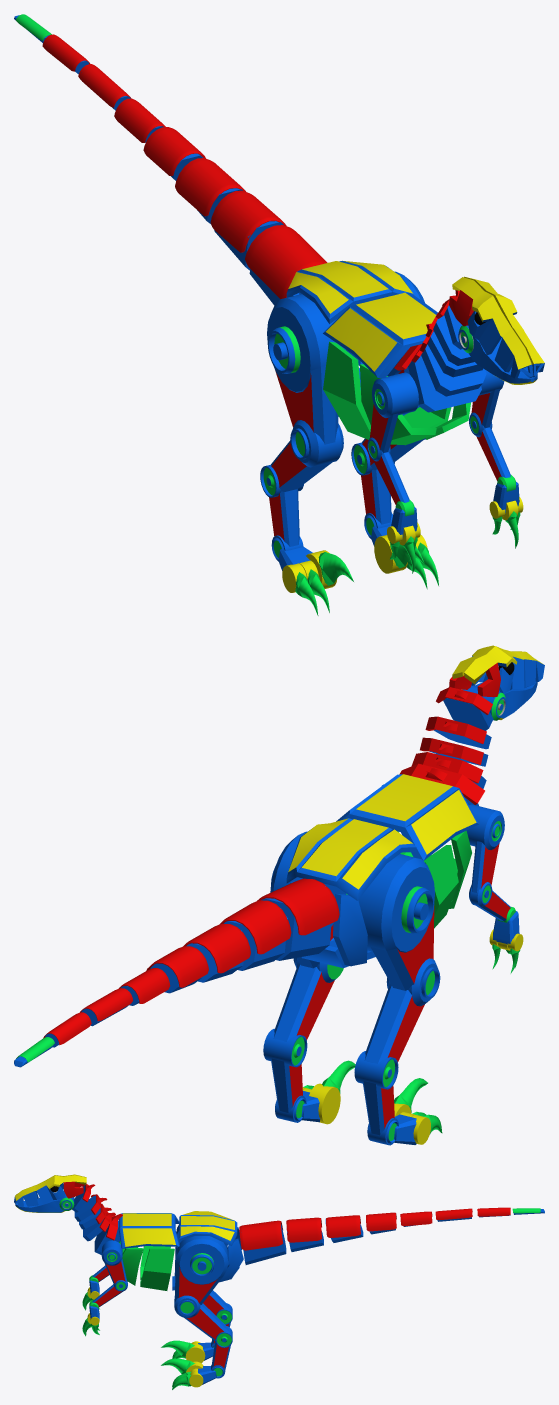
The model's file is raptor_v02.fbx.
3 views of the same model, one above another, from view 1: azimuth 30°, elevation 25°; view 2: azimuth 150°, elevation 25°; view 3: azimuth 270°, elevation 25° (orthographic). The views are drawn at different scales.
Visible parts, largest first — view 1: pCube10, polySurface3, pCylinder9, back, pCube19 (×4), pCylinder1, polySurface5, pCube14 (×2), pCylinder2, pCube12, pCylinder3, polySurface9 (×2) (+11 smaller); view 2: pCylinder9 (×2), back, pCube10, pCube13 (×2), pCube20 (×5), polySurface3, pCube14 (×2), pCylinder1, pCylinder11 (×2), pCylinder2, polySurface11, pCube12 (+17 smaller); view 3: pCylinder9, pCube10, back, polySurface3, polySurface4, pCylinder1, pCube13 (×2), pCylinder2, pCube12, pCylinder3, pCube2, pCone2 (×2) (+15 smaller).
Boxes of the visible parts, bbox=[...] form: pCube10: bbox=[323, 292, 437, 377]; polySurface3: bbox=[449, 276, 544, 378]; pCylinder9: bbox=[267, 294, 345, 392]; back: bbox=[286, 260, 414, 324]; pCube19 (×4): bbox=[408, 315, 486, 412]; pCylinder1: bbox=[245, 225, 327, 299]; polySurface5: bbox=[323, 341, 370, 439]; pCube14 (×2): bbox=[269, 469, 391, 546]; pCylinder2: bbox=[210, 190, 286, 252]; pCube12: bbox=[275, 366, 338, 444]; pCylinder3: bbox=[175, 158, 245, 216]; polySurface9 (×2): bbox=[373, 427, 510, 504]; pCylinder9 (×2): bbox=[270, 831, 434, 952]; back: bbox=[286, 818, 416, 900]; pCube10: bbox=[336, 774, 478, 860]; pCube13 (×2): bbox=[273, 964, 424, 1063]; pCube20 (×5): bbox=[399, 687, 492, 804]; polySurface3: bbox=[449, 645, 544, 697]; pCube14 (×2): bbox=[271, 1058, 394, 1135]; pCylinder1: bbox=[257, 878, 339, 935]; pCylinder11 (×2): bbox=[263, 1028, 398, 1089]; pCylinder2: bbox=[219, 900, 291, 954]; polySurface11: bbox=[333, 894, 367, 966]; pCube12: bbox=[370, 906, 434, 990]; pCylinder9: bbox=[175, 1236, 228, 1284]; pCube10: bbox=[118, 1213, 179, 1248]; back: bbox=[179, 1211, 237, 1245]; polySurface3: bbox=[14, 1174, 86, 1207]; polySurface4: bbox=[140, 1248, 174, 1290]; pCylinder1: bbox=[239, 1220, 282, 1250]; pCube13 (×2): bbox=[184, 1290, 229, 1341]; pCylinder2: bbox=[286, 1217, 322, 1242]; pCube12: bbox=[174, 1263, 222, 1304]; pCylinder3: bbox=[326, 1215, 360, 1237]; pCube2: bbox=[243, 1224, 286, 1264]; pCone2 (×2): bbox=[161, 1340, 194, 1373].
Size of the model in its own units: 3.48 by 9.02 by 21.62.
